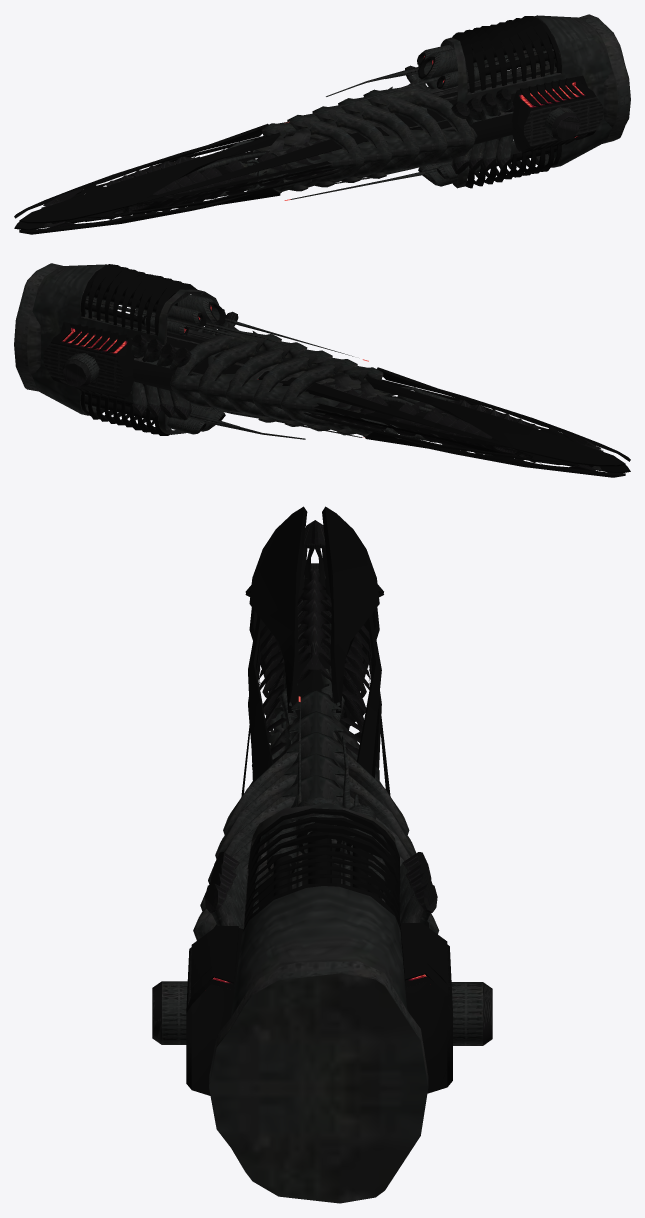
Rendered from whip-cannon.glb.
The picture shows the model from 3 angles, top to bottom: view 1: azimuth 30°, elevation 25°; view 2: azimuth 150°, elevation 25°; view 3: azimuth 270°, elevation 25°; orthographic projection. The views are drawn at different scales.
Parts seen in each view (by area): view 1: vncl_I_bas_temp, vncl_pla_I_ven_1, vncl_pla_can_I_bar_1; view 2: vncl_I_bas_temp, vncl_pla_I_ven_1; view 3: vncl_I_bas_temp, vncl_pla_I_ven_1.
Part boxes in pixels (<box>): vncl_I_bas_temp: <box>14,14,630,234</box>; vncl_pla_I_ven_1: <box>199,56,587,200</box>; vncl_pla_can_I_bar_1: <box>223,140,284,189</box>; vncl_I_bas_temp: <box>14,263,630,477</box>; vncl_pla_I_ven_1: <box>60,305,452,437</box>; vncl_I_bas_temp: <box>152,506,492,1203</box>; vncl_pla_I_ven_1: <box>191,577,447,1095</box>.
Size of the model in its own units: 2.55 by 0.6284 by 0.6415.
Materials: 6 (6 with a texture image).
